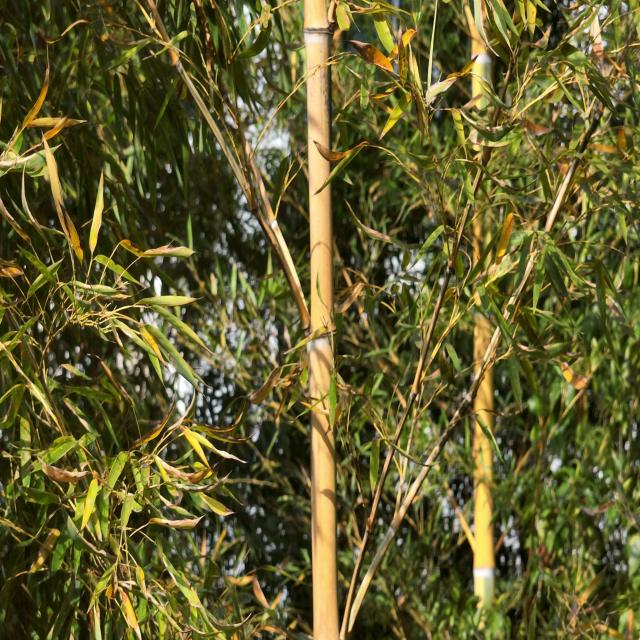Bamboo-shoots: (304, 0, 340, 640)
